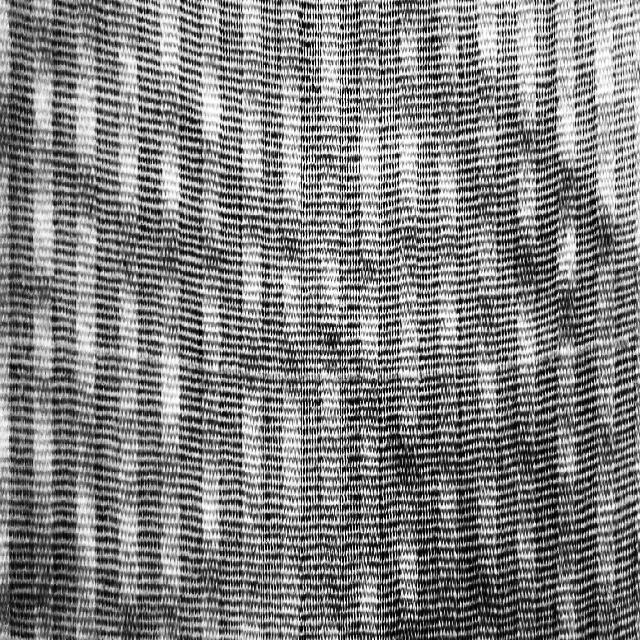Hole: (10, 314, 628, 391)
